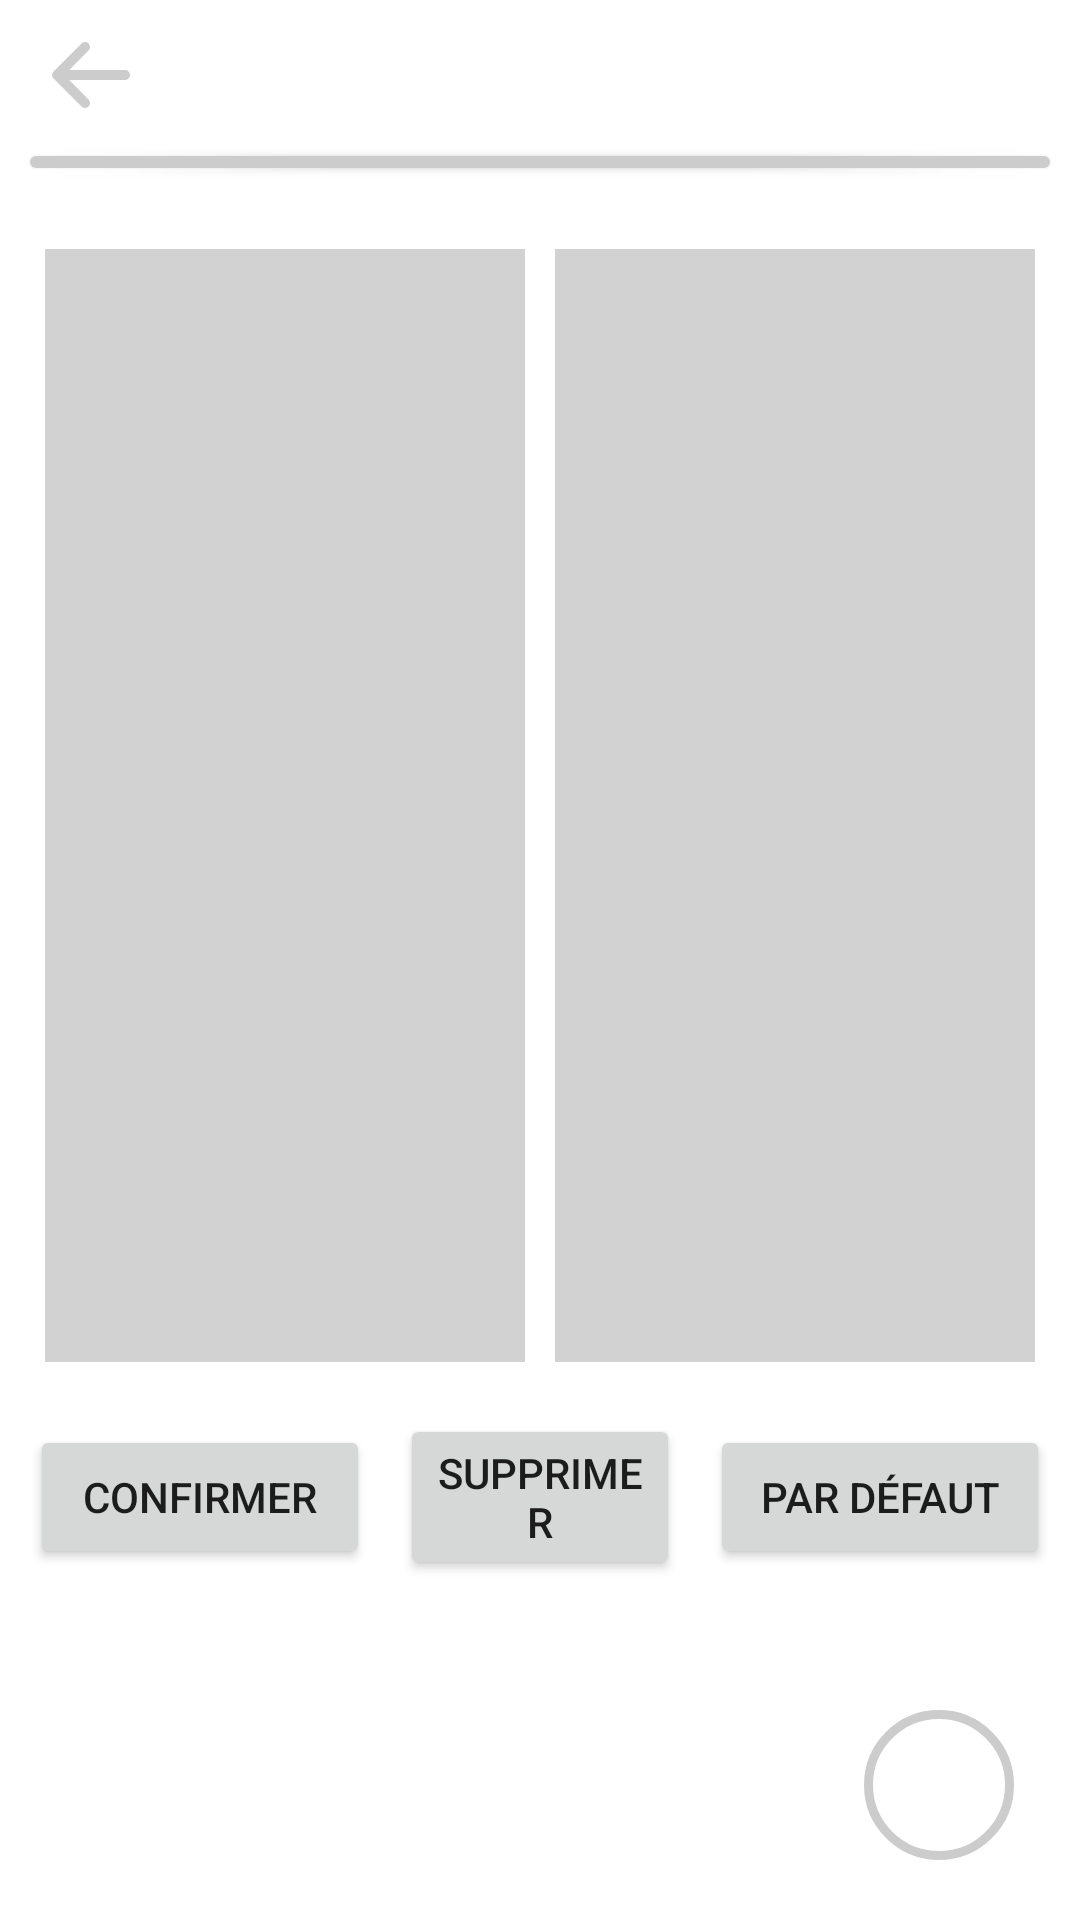

Icons on this 1080x1920 Android screen, each with the point to tap as point (x, y):
arrow left: point (91, 75)
